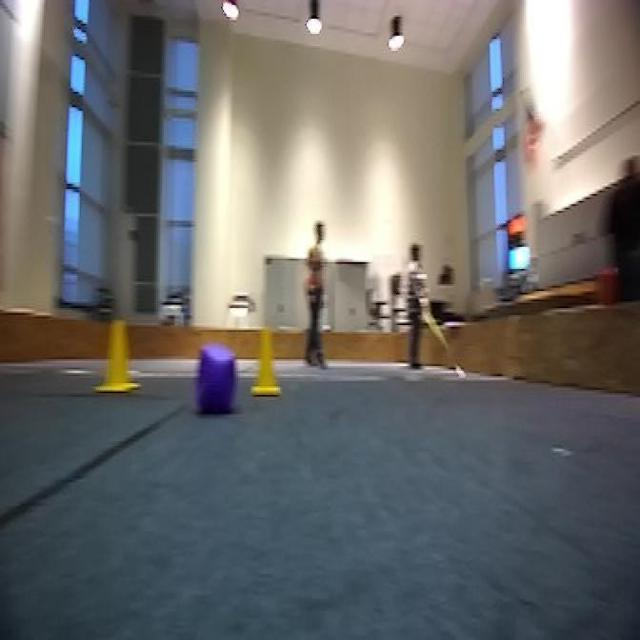frc_cone: (93, 313, 139, 395), (247, 326, 283, 396)
frc_cube: (194, 346, 239, 416)
